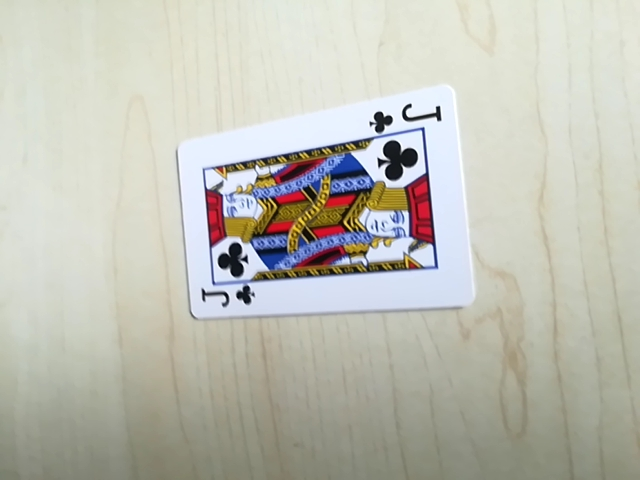mh j: (366, 100, 448, 135), (196, 280, 257, 316)
